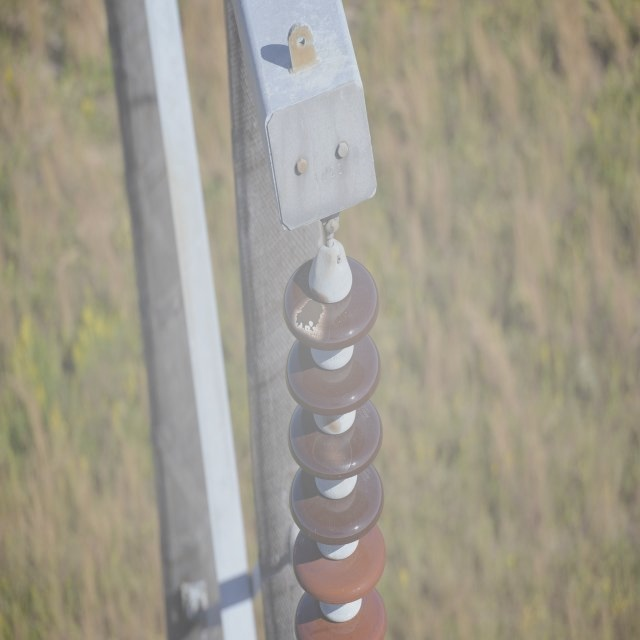insulator: (282, 254, 386, 640)
